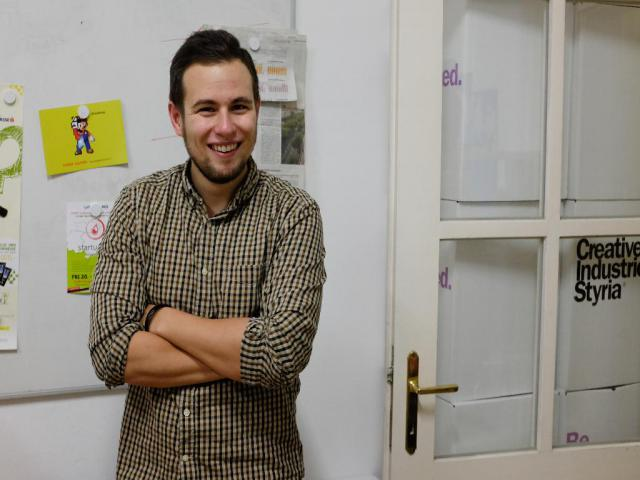Door-handle: (406, 350, 460, 454)
